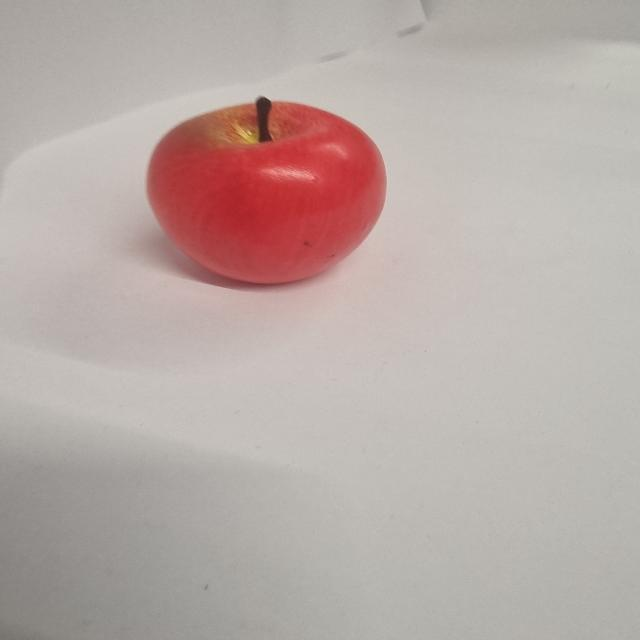apple: (146, 97, 388, 285)
